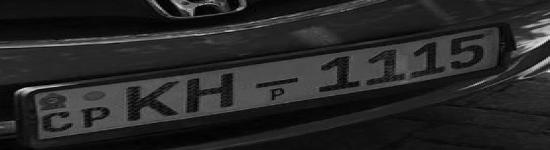-: (251, 76, 303, 90)
1: (312, 54, 364, 94), (362, 48, 410, 84), (410, 40, 447, 78)
5: (446, 32, 498, 71)
C: (40, 110, 78, 134)
H: (184, 71, 244, 113)
K: (122, 80, 182, 122)
P: (81, 105, 115, 128)
